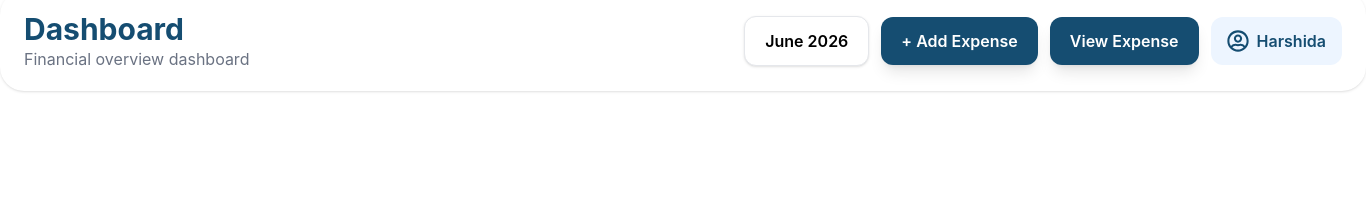
Navbar › shows logout button when profile is clicked
What coordinates should you click on to do the following:
click the text "Harshida"
I would click on:
 (1291, 41)
Its box is [1257,29,1326,53].
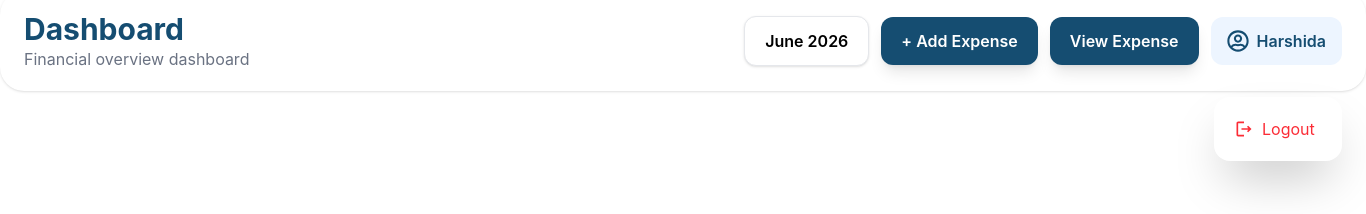
expect the button "Logout" is shown: met, box [1222,105,1334,153]
